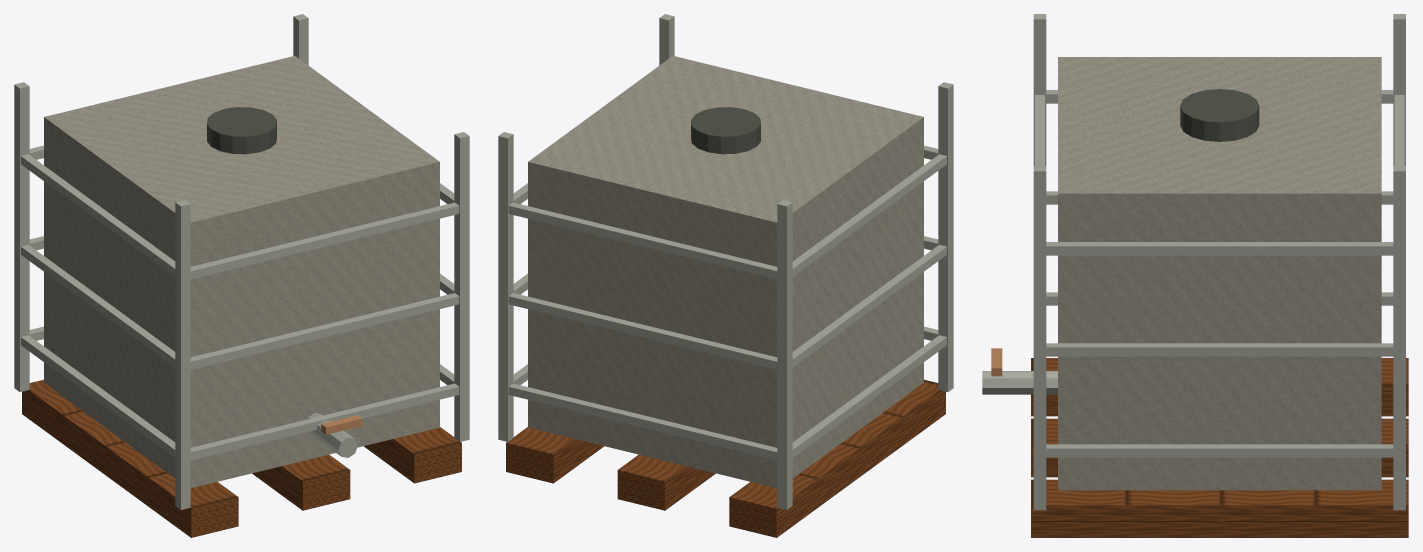
The model's file is reclamation-yard-caged-water-cistern__224.glb.
The picture shows the model from 3 angles, left to right: view 1: azimuth 30°, elevation 25°; view 2: azimuth 150°, elevation 25°; view 3: azimuth 270°, elevation 25°; orthographic projection. The views are drawn at different scales.
Parts seen in each view (by area): view 1: stone, metal, wood, dark; view 2: stone, metal, wood, dark; view 3: stone, metal, wood, dark.
Boxes of the visible parts, x1,y1,x2,y2 form: stone: (44, 56, 439, 488); metal: (14, 14, 469, 509); wood: (22, 379, 461, 537); dark: (207, 107, 276, 154); stone: (528, 56, 923, 488); metal: (498, 14, 953, 509); wood: (506, 379, 945, 537); dark: (691, 107, 760, 154); stone: (1058, 57, 1381, 490); metal: (982, 14, 1405, 510); wood: (1031, 358, 1408, 537); dark: (1180, 89, 1259, 141).
Size of the model in its own units: 1.03 by 1.14 by 1.19.
5 materials, 2 textured.
